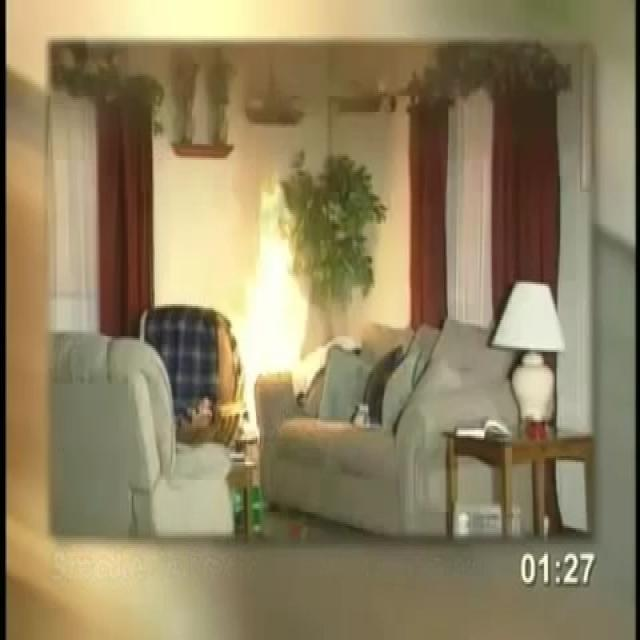Fire: (241, 195, 312, 368)
